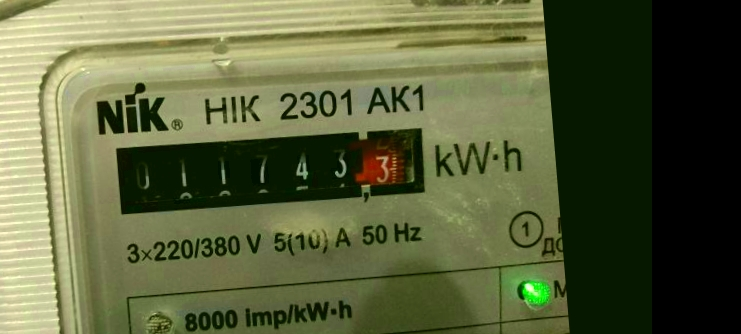0: (130, 155, 152, 193)
1: (213, 150, 231, 185), (176, 153, 189, 187)
3: (327, 143, 349, 180), (372, 152, 392, 186)
4: (290, 147, 310, 182)
7: (251, 149, 272, 184)
screen: (99, 109, 440, 230)
